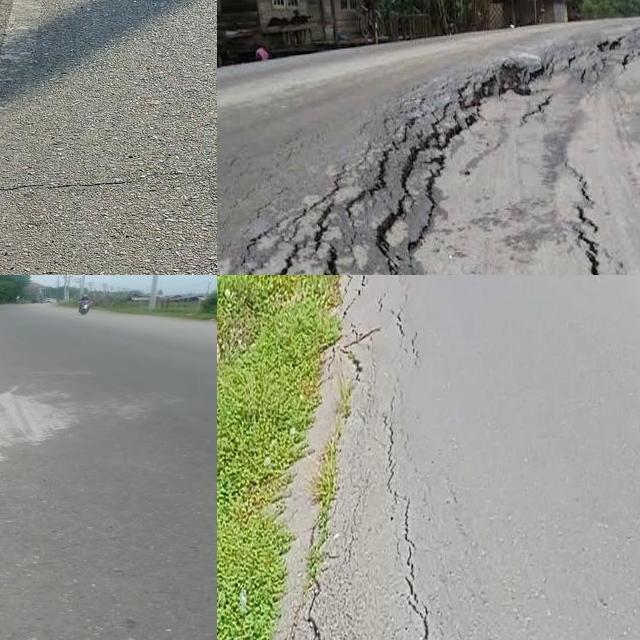Melintang: (0, 153, 217, 202)
Memanjang: (217, 20, 615, 275), (388, 481, 451, 640), (561, 151, 615, 275)
Pinggir: (217, 275, 400, 640)
